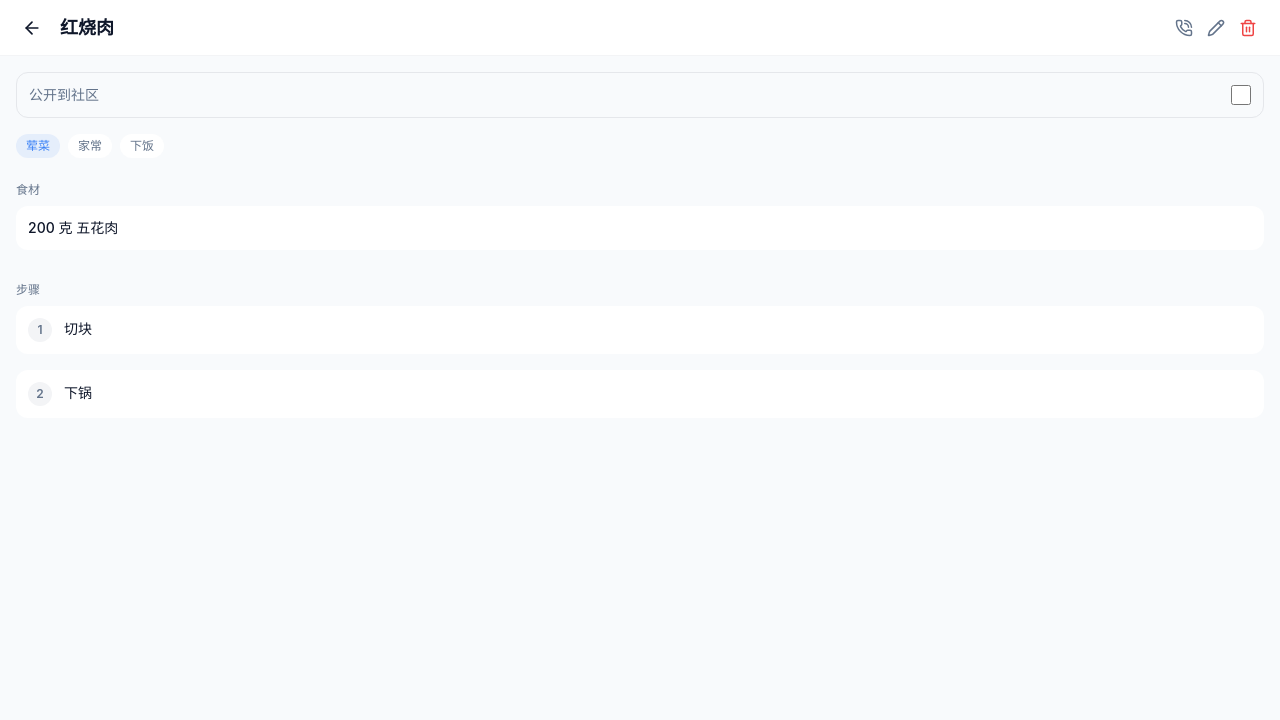
Test case: RecipeDetail › 删除失败且抛出的不是 Error 时回落到「删除失败，请重试」
Click the button with test id "delete" at (1248,28), box [1232,12,1264,44]
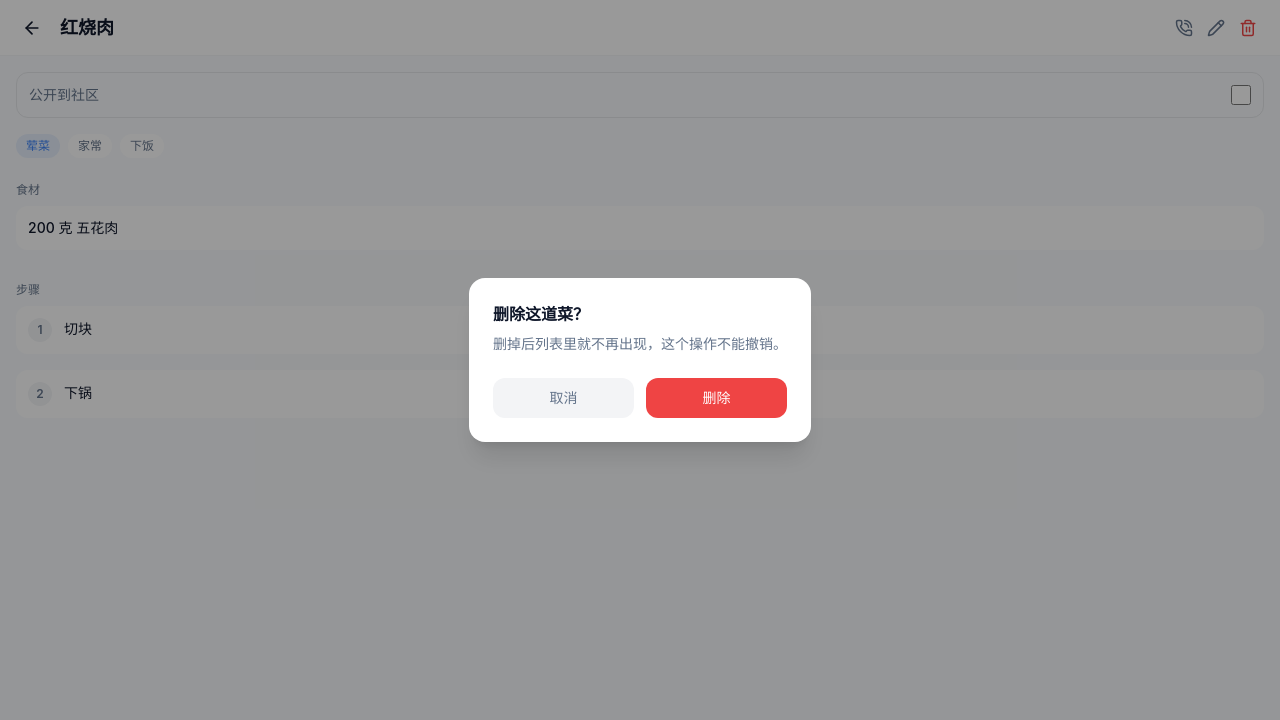
Click the button "删除" at (716,398), box [646,378,787,418]
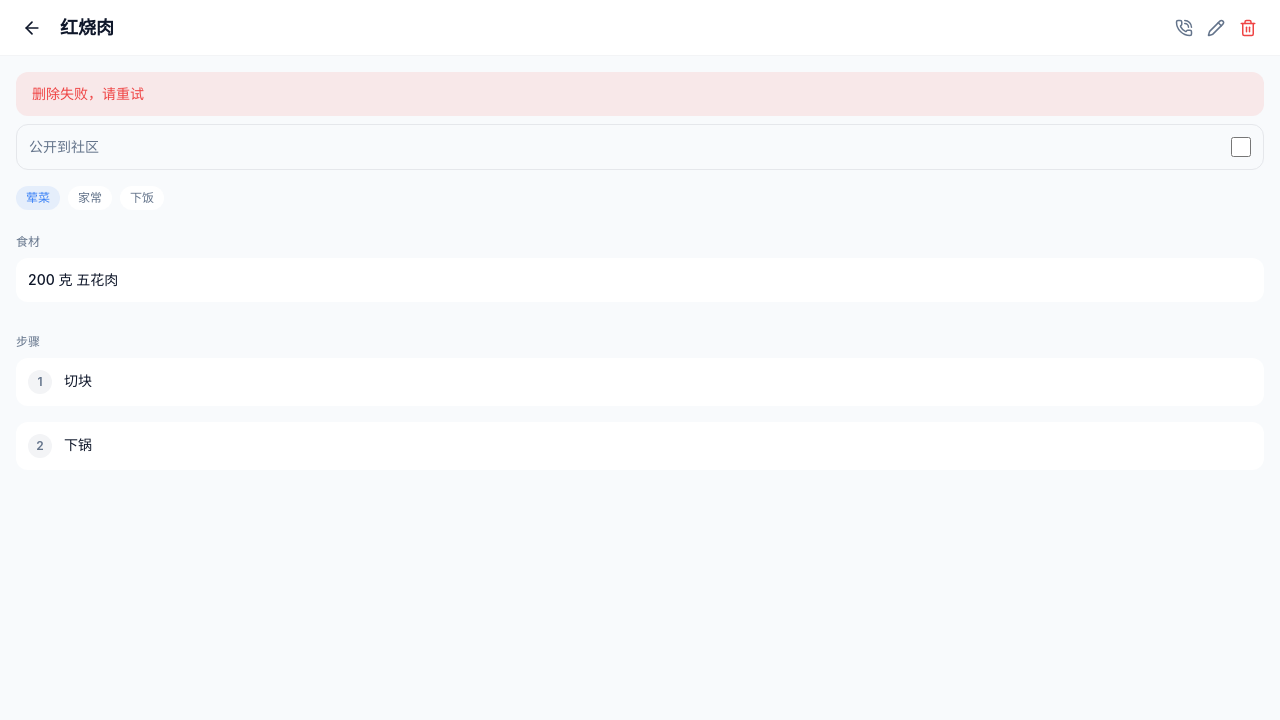
Check: the text with test id "delete-error" reads "删除失败，请重试", box [32,85,144,102]
